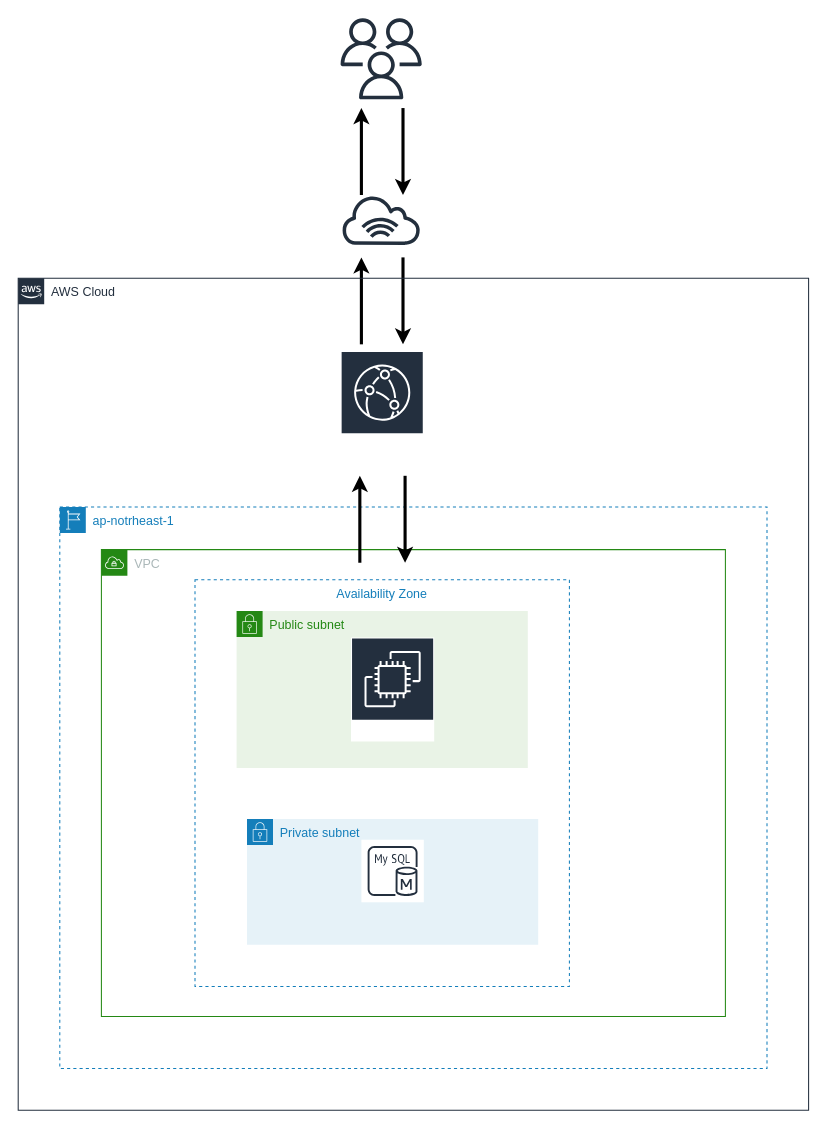
The diagram is 827 pixels wide and 1128 high, and some of its shapes have lost their labels. The centre of each missing label's shape, as x and y in pixels:
"Amazon Cloudfront" goes at point (382, 407).
"Amazon EC2" goes at point (392, 689).
"MySQL DB instance" goes at point (392, 870).
